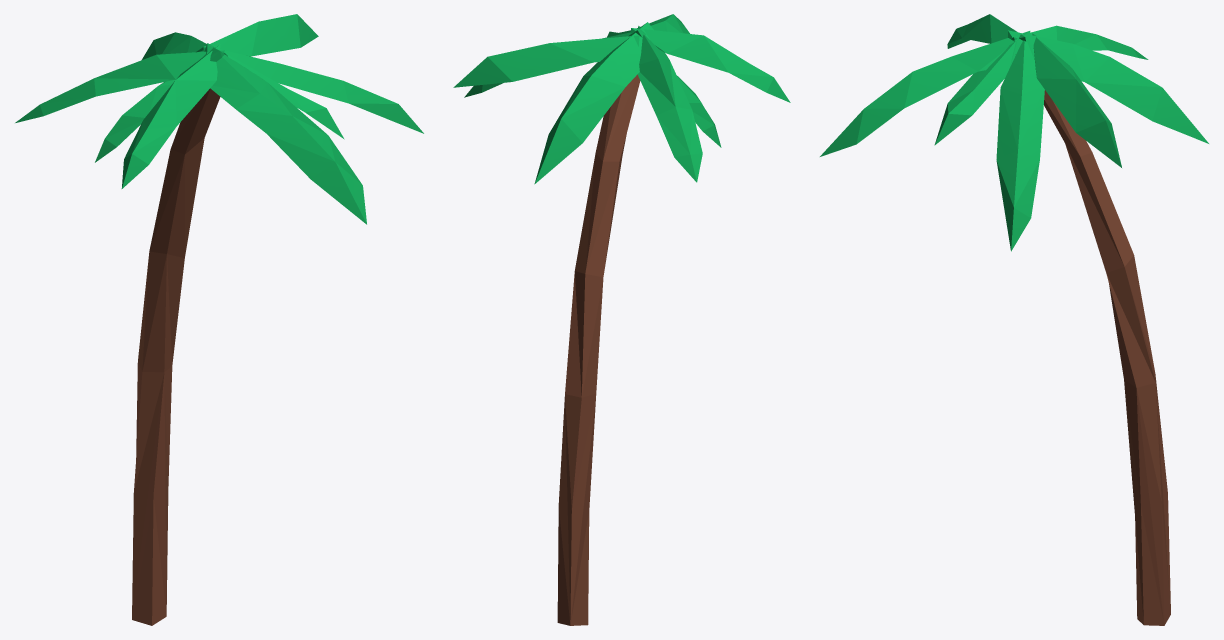
File: Tree_09_gradient_green_vc.fbx
3 views of the same model, side by side, from view 1: azimuth 30°, elevation 25°; view 2: azimuth 150°, elevation 25°; view 3: azimuth 270°, elevation 25° (orthographic). The views are drawn at different scales.
Visible parts, largest first — view 1: Tree_09_gradient_green_vc; view 2: Tree_09_gradient_green_vc; view 3: Tree_09_gradient_green_vc.
Part boxes in pixels (<box>): Tree_09_gradient_green_vc: <box>15,14,423,625</box>; Tree_09_gradient_green_vc: <box>453,14,790,625</box>; Tree_09_gradient_green_vc: <box>820,14,1208,625</box>.
Size of the model in its own units: 128 by 228 by 137.
